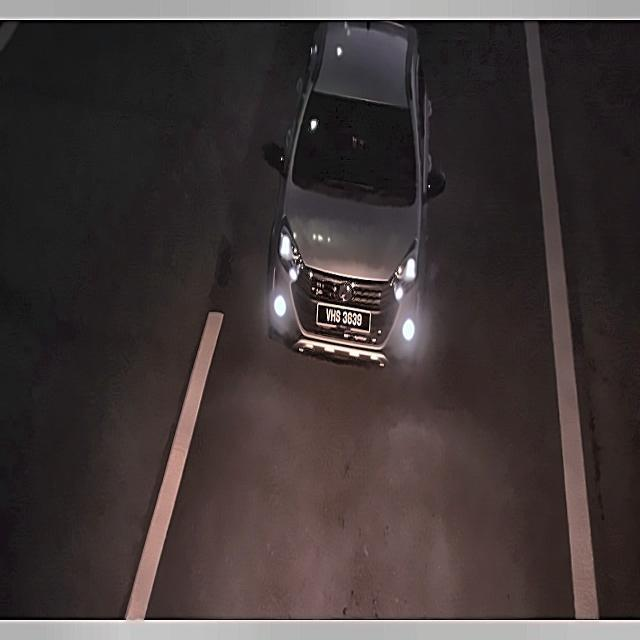car: (315, 294, 372, 339)
